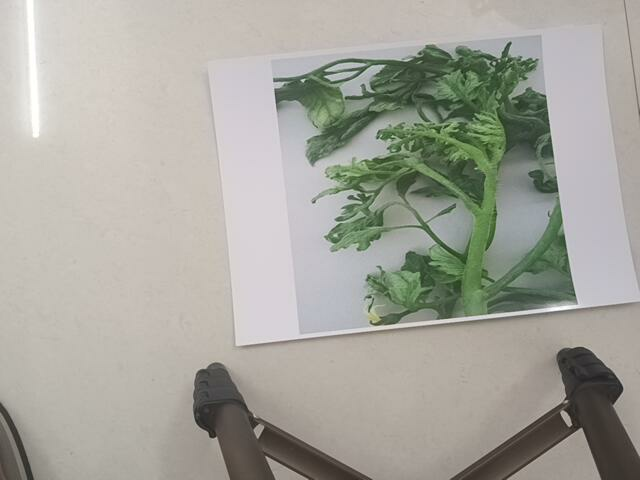Tomamto_Mosaic_virus: (274, 55, 584, 312)
